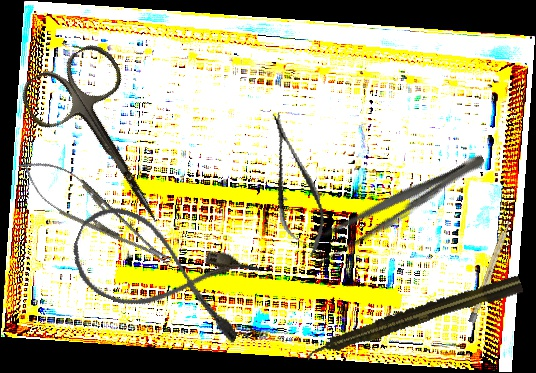Cannula: (60, 196, 265, 349)
Dressing Forceps: (307, 144, 491, 269)
Handpiece: (302, 273, 525, 363)
Iris Scissors: (15, 37, 197, 249)
Micro Scissor: (256, 107, 334, 262)
Needle Holder: (8, 144, 184, 283)
Scalpel Handle: (468, 219, 512, 324)
